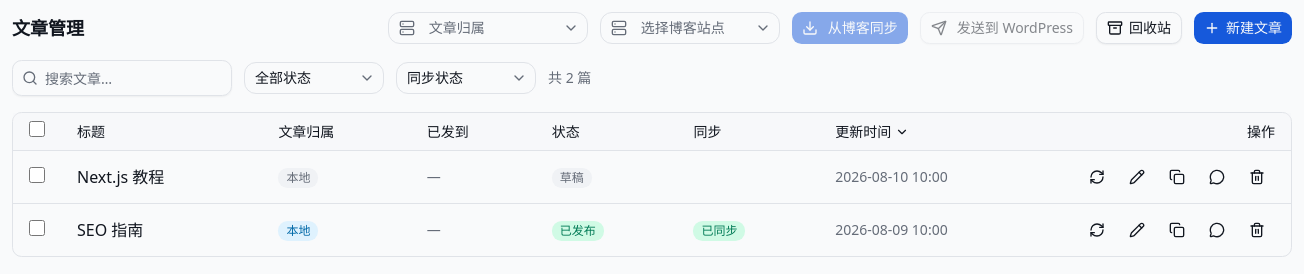
Test: ArticlesClient › 状态筛选：选择草稿后只显示草稿文章
The width and height of the screenshot is (1304, 274).
expect the text "Next.js 教程" is shown: met, box [61, 150, 262, 204]
Click the dropdown named "状态筛选".
click(314, 78)  # box [244, 62, 384, 94]
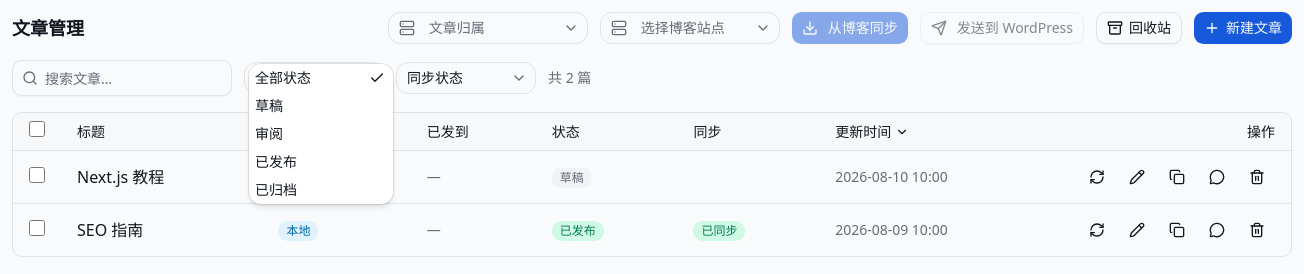
expect the option "草稿" is shown: met
Click the option "草稿".
click(269, 106)  # box [255, 96, 283, 115]
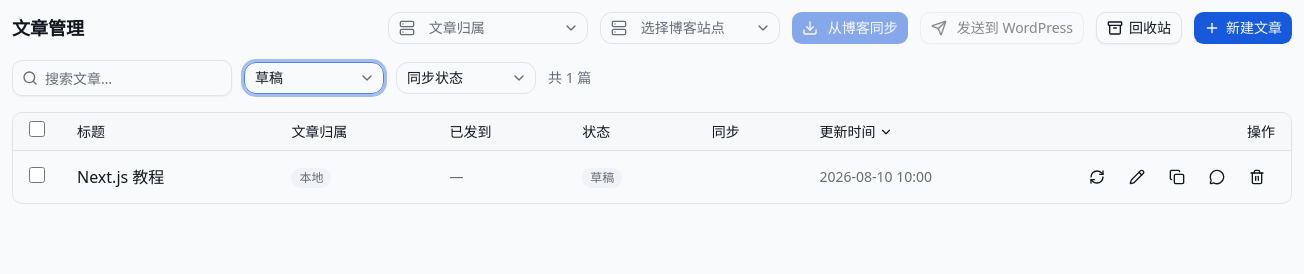
expect the text "Next.js 教程" is shown: met, box [61, 150, 275, 203]
expect the text "SEO 指南" is gone: met
